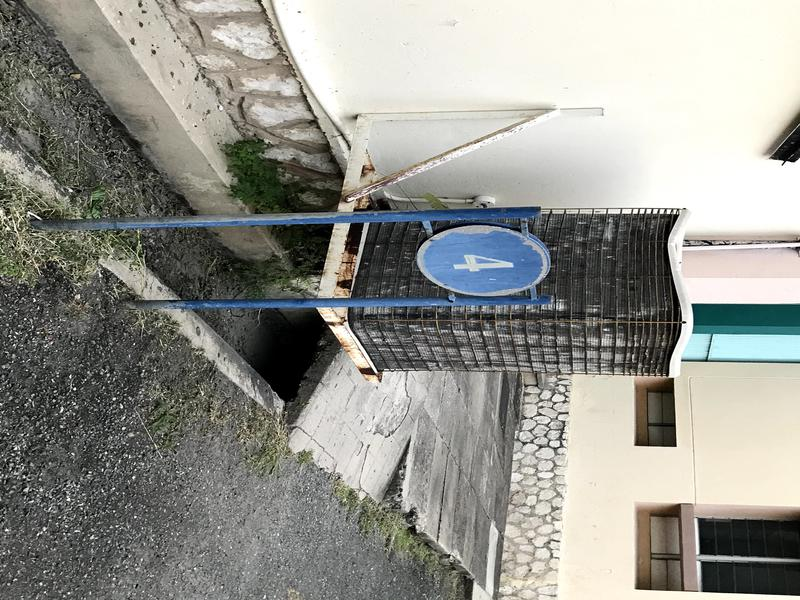18.0053530_-76.7490375_signatentrancetoscitech: (23, 200, 574, 324)
